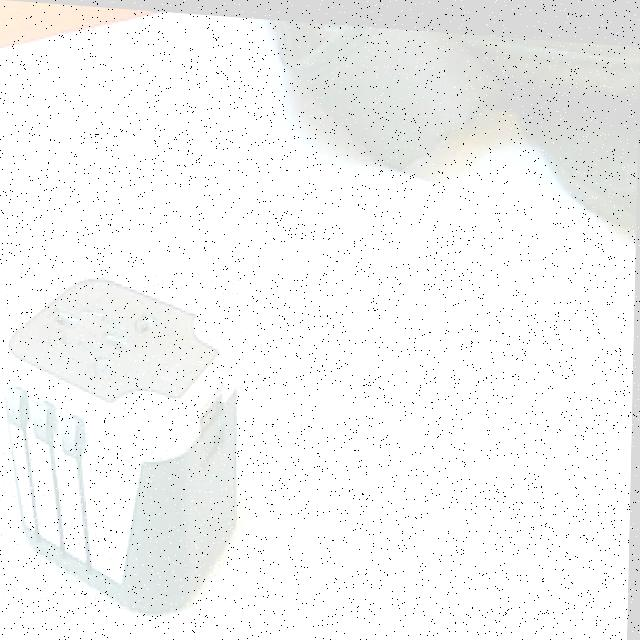adapter: (0, 262, 245, 616)
